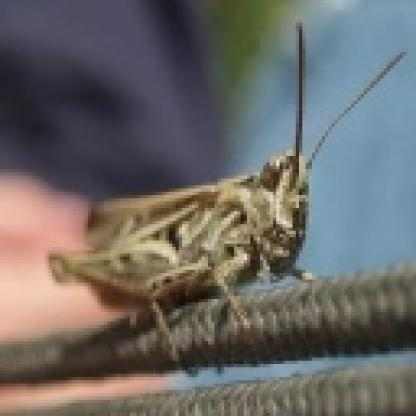grasshopper: (54, 19, 379, 328)
